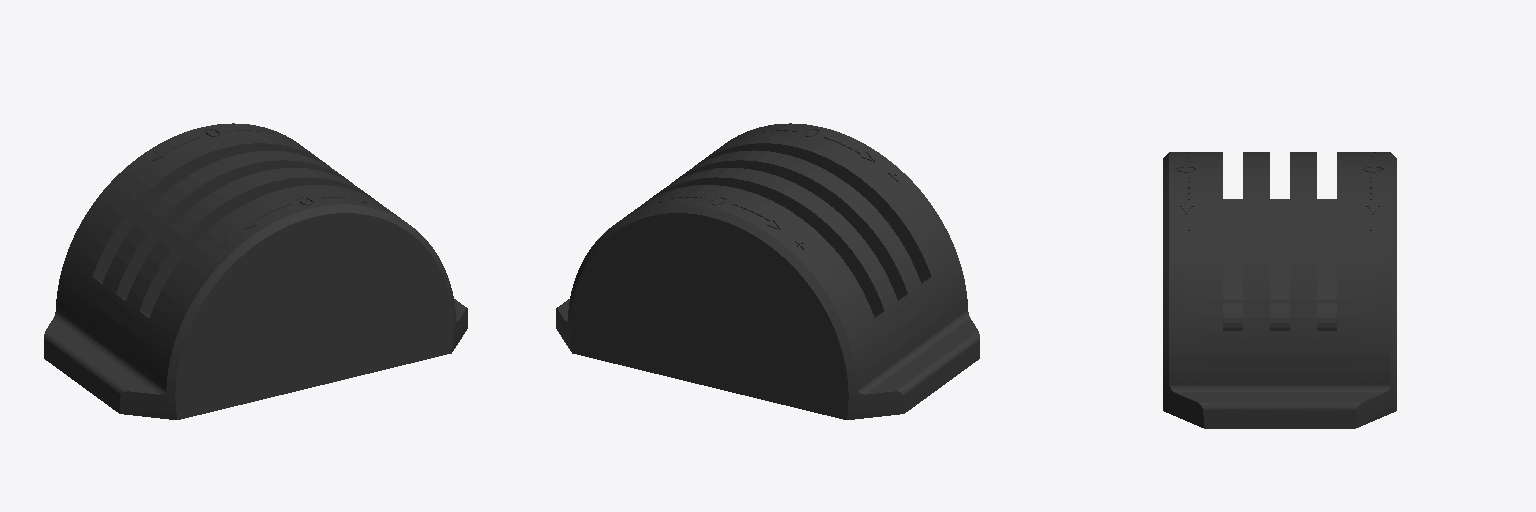
The picture shows the model from 3 angles: view 1: azimuth 30°, elevation 25°; view 2: azimuth 150°, elevation 25°; view 3: azimuth 270°, elevation 25°; orthographic projection.
Visible parts, largest first — view 1: ThrottleHandle; view 2: ThrottleHandle; view 3: ThrottleHandle.
Boxes of the visible parts, x1,y1,x2,y2 form: ThrottleHandle: [44, 123, 467, 419]; ThrottleHandle: [556, 123, 979, 419]; ThrottleHandle: [1163, 152, 1396, 428].
Bounding box in the file's own units: 0.3 × 0.145 × 0.175.